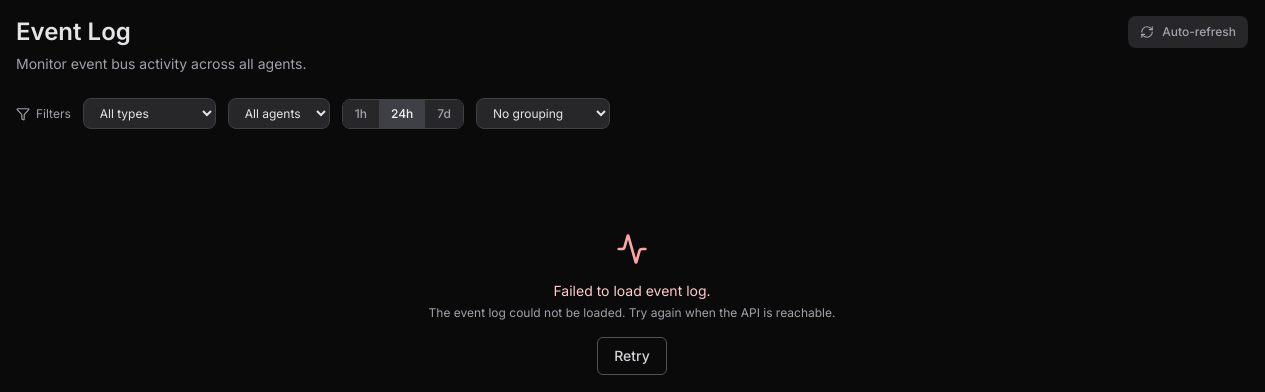
EventsPage › shows a blocking retryable error on first-load failures
Click the button with test id "events-retry-button" at (632, 356), box [597,337,667,375]
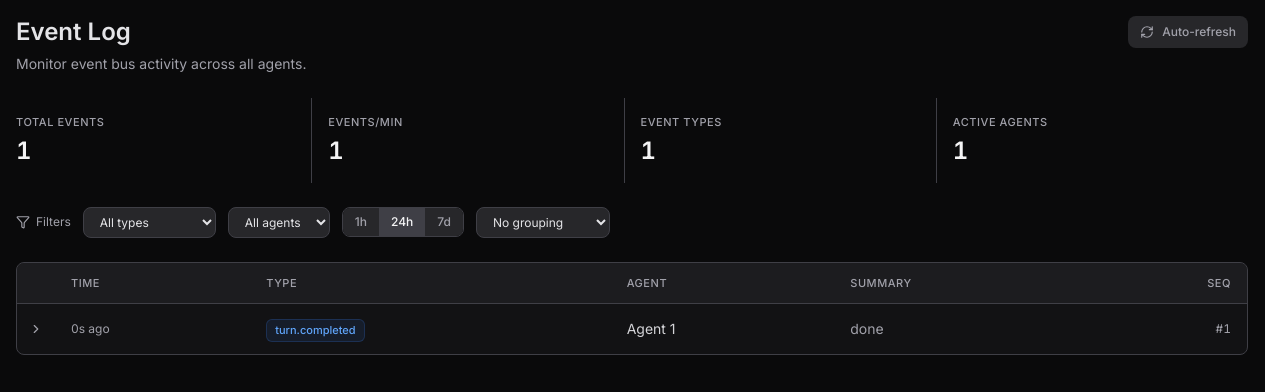
Expected: the text "Event Log" is shown, [16,17,131,46]
Expected: the text "turn.completed" is shown, [266,319,365,342]
